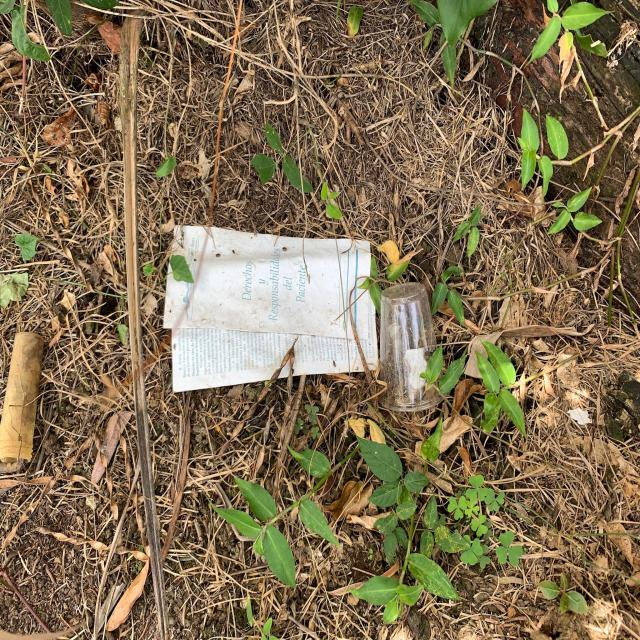litter: (162, 225, 378, 391), (378, 279, 444, 411)
